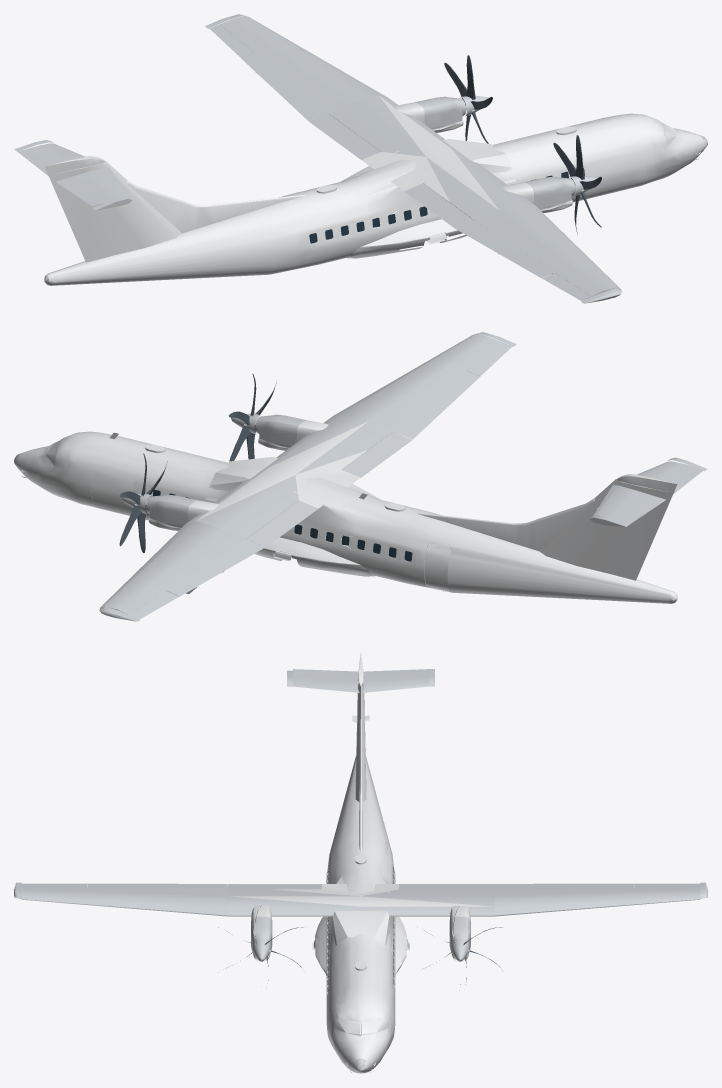
3 renders of one model, top to bottom at view 1: azimuth 30°, elevation 25°; view 2: azimuth 150°, elevation 25°; view 3: azimuth 270°, elevation 25°, orthographic. The views are drawn at different scales.
Visible parts, largest first — view 1: hull, wing, tail, propeller (×2), engine, glass; view 2: hull, wing, tail, propeller (×2), engine, glass; view 3: wing, hull, tail.
Part boxes in pixels (box(x1,y1,x2,y2)): hull: box(44, 96, 707, 285); wing: box(14, 14, 707, 303); tail: box(44, 156, 305, 281); propeller (×2): box(444, 55, 601, 234); engine: box(393, 102, 572, 212); glass: box(309, 168, 584, 243); hull: box(14, 422, 676, 603); wing: box(14, 332, 707, 621); tail: box(416, 474, 677, 599); propeller (×2): box(119, 373, 276, 552); engine: box(149, 420, 328, 530); glass: box(153, 489, 412, 561); wing: box(14, 669, 707, 1070); hull: box(230, 707, 492, 1073); tail: box(348, 652, 373, 849).
Bounding box in the file's own units: 27.2 × 6.45 × 27.1.
